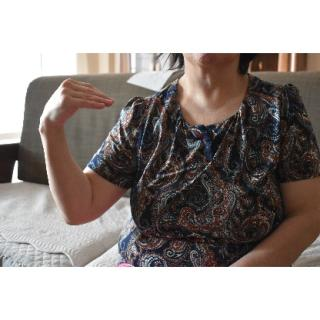HAA: (38, 76, 117, 137)
